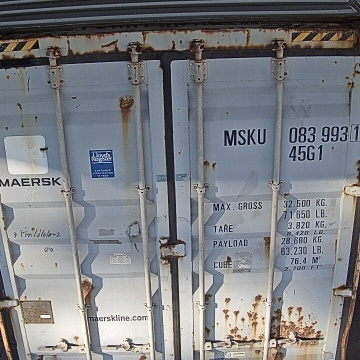serial_id: (223, 126, 360, 145)
